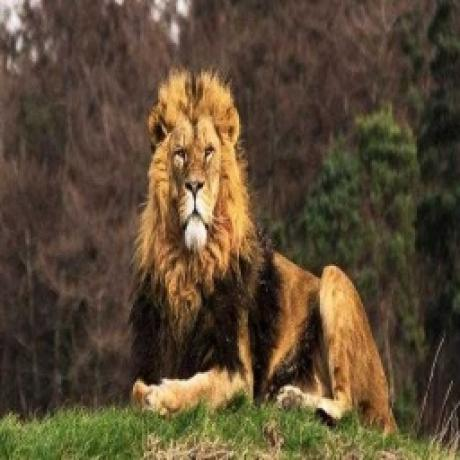Lion: (127, 64, 400, 434)
